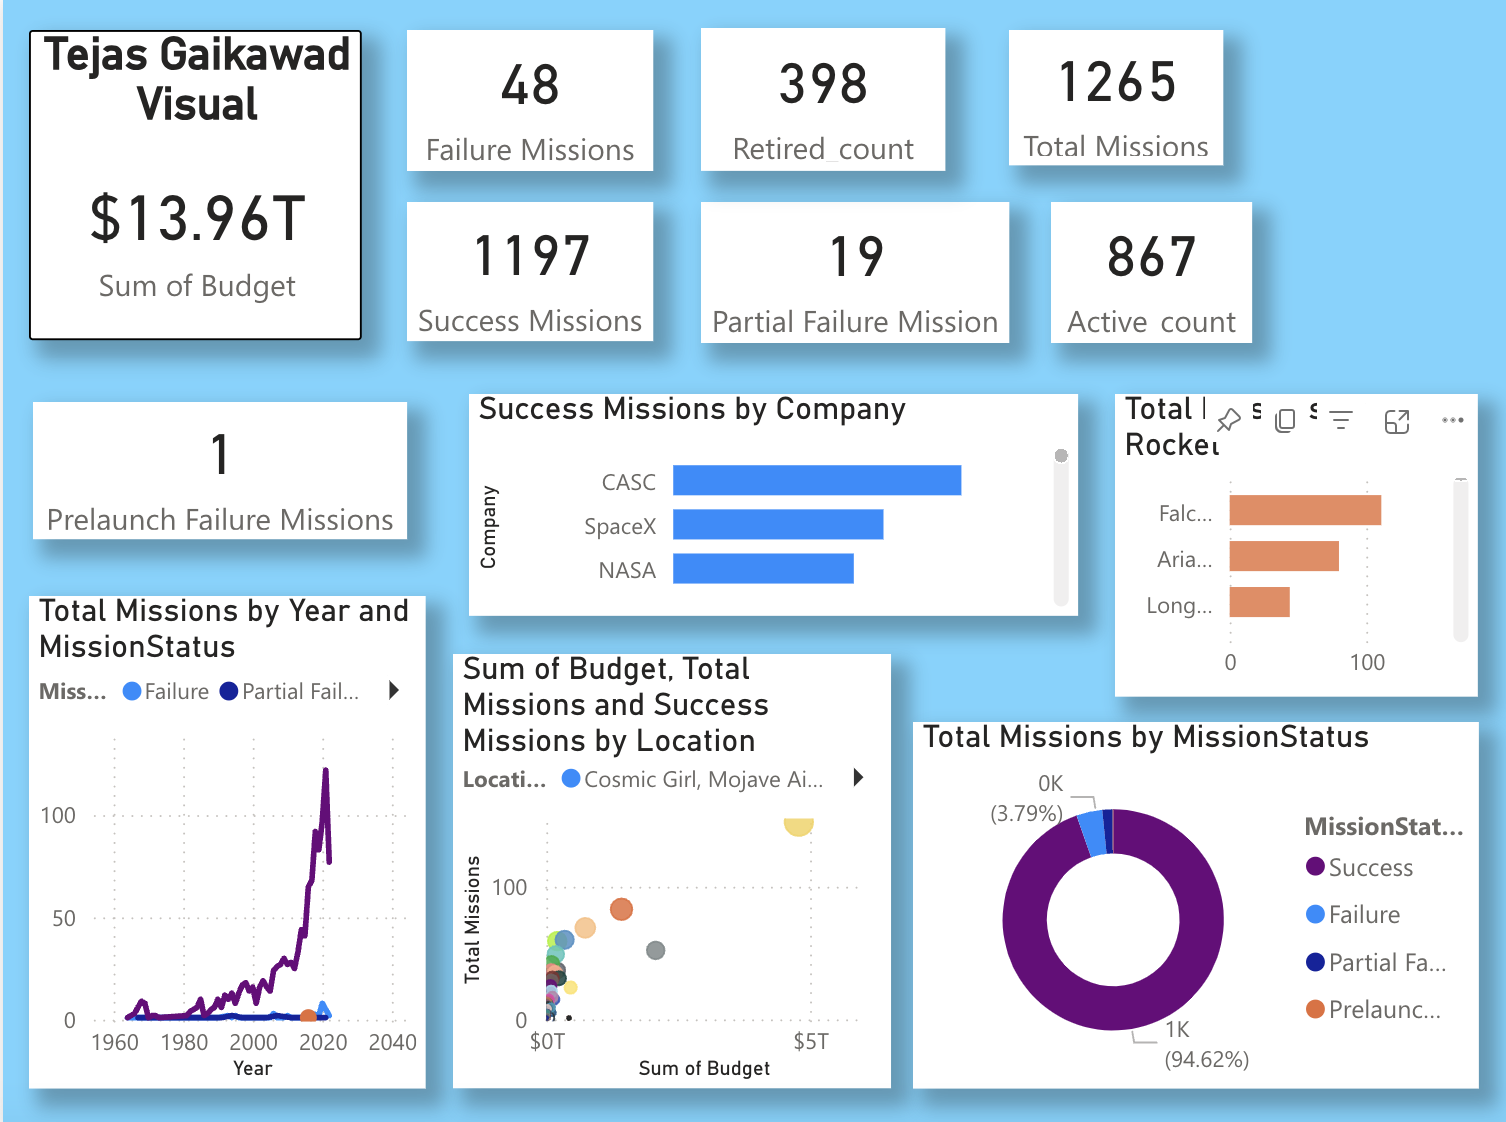

The dashboard page shown, as its layout file describes it:
{"tool":"powerbi","page":{"name":"Page 1","canvas":[800,600],"ordinal":0},"visuals":[{"type":"card","title":"Tejas Gaikawad Visual","fields":{"Values":["space_missions (3).Budget"]},"box":[14,16,177,165],"z":0},{"type":"card","fields":{"Values":["all_measures.Failure Missions"]},"box":[215,16,131,75],"z":1000},{"type":"card","fields":{"Values":["all_measures.Partial Failure Mission"]},"box":[371,107,164,75],"z":2000},{"type":"card","fields":{"Values":["all_measures.Prelaunch Failure Missions"]},"box":[16,214,199,73],"z":3000},{"type":"card","fields":{"Values":["all_measures.Retired_count"]},"box":[371,15,130,76],"z":4000},{"type":"card","fields":{"Values":["all_measures.Success Missions"]},"box":[215,107,131,74],"z":5000},{"type":"card","fields":{"Values":["all_measures.Total Missions"]},"box":[535,16,114,72],"z":6000},{"type":"card","fields":{"Values":["all_measures.Active_count"]},"box":[557,107,107,75],"z":7000},{"type":"lineChart","fields":{"Category":["Data Table.Year"],"Y":["all_measures.Total Missions"],"Series":["space_missions (3).MissionStatus"]},"box":[14,317,211,262],"z":8000},{"type":"barChart","fields":{"Category":["space_missions (3).Company"],"Y":["all_measures.Success Missions"]},"box":[248,210,324,118],"z":9000},{"type":"barChart","fields":{"Category":["space_missions (3).Rocket"],"Y":["all_measures.Total Missions"]},"box":[592,210,193,161],"z":10000},{"type":"scatterChart","fields":{"Y":["all_measures.Total Missions"],"Series":["space_missions (3).Location"],"X":["space_missions (3).Budget"],"Size":["all_measures.Success Missions"]},"box":[239,348,233,231],"z":11000},{"type":"donutChart","fields":{"Category":["space_missions (3).MissionStatus"],"Y":["all_measures.Total Missions"]},"box":[484,384,301,195],"z":12000}]}

Visuals, with their boxes in screenshot pixels (x1, y1, x2, y2), scaled from the page's 800x600 canvas onto the 1506x1122 screenshot:
"Tejas Gaikawad Visual" card: (26, 30, 360, 338)
card - all_measures.Failure Missions: (405, 30, 651, 170)
card - all_measures.Partial Failure Mission: (698, 200, 1007, 340)
card - all_measures.Prelaunch Failure Missions: (30, 400, 405, 537)
card - all_measures.Retired_count: (698, 28, 943, 170)
card - all_measures.Success Missions: (405, 200, 651, 338)
card - all_measures.Total Missions: (1007, 30, 1222, 165)
card - all_measures.Active_count: (1049, 200, 1250, 340)
lineChart - Data Table.Year x all_measures.Total Missions: (26, 593, 424, 1083)
barChart - space_missions (3).Company x all_measures.Success Missions: (467, 393, 1077, 613)
barChart - space_missions (3).Rocket x all_measures.Total Missions: (1114, 393, 1478, 694)
scatterChart - all_measures.Total Missions x space_missions (3).Location: (450, 651, 889, 1083)
donutChart - space_missions (3).MissionStatus x all_measures.Total Missions: (911, 718, 1478, 1083)
